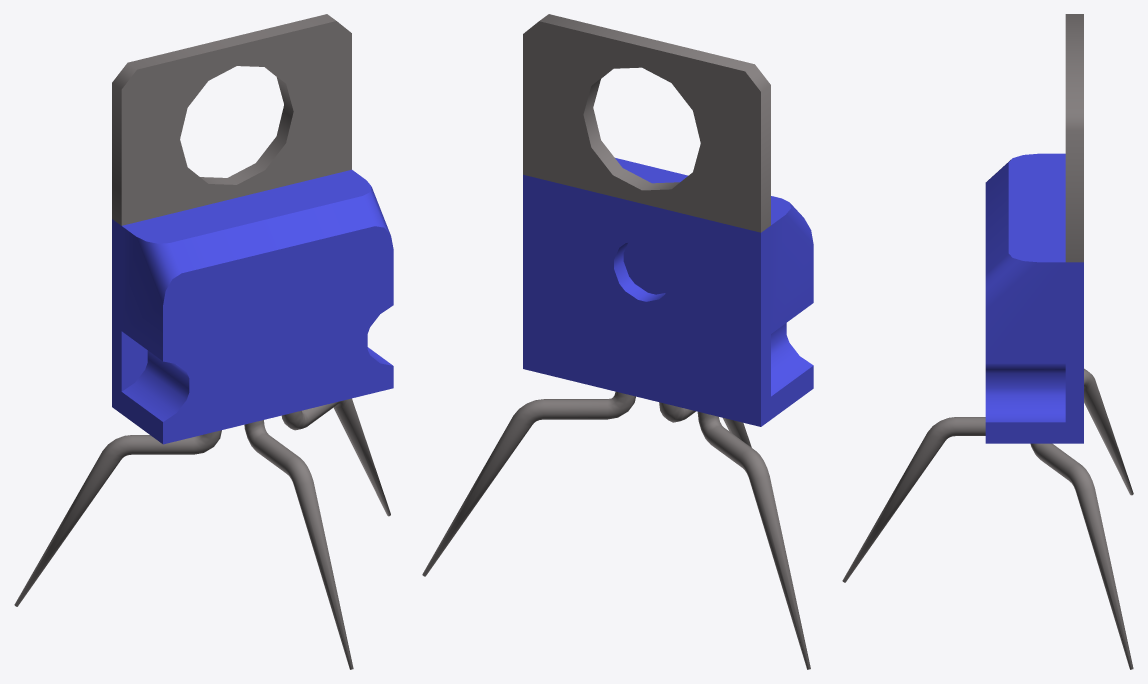
The model's file is transistor.fbx.
The picture shows the model from 3 angles, left to right: view 1: azimuth 30°, elevation 25°; view 2: azimuth 150°, elevation 25°; view 3: azimuth 270°, elevation 25°; orthographic projection. The views are drawn at different scales.
Parts seen in each view (by area): view 1: Cube, Cylinder.007, Cylinder.005, Cylinder.006; view 2: Cube, Cylinder.006, Cylinder.007, Cylinder.005; view 3: Cube, Cylinder.006, Cylinder.005, Cylinder.007.
Part boxes in pixels (x1=…): Cube: x1=112, y1=14, x2=393, y2=444; Cylinder.007: x1=14, y1=430, x2=221, y2=606; Cylinder.005: x1=244, y1=420, x2=353, y2=669; Cylinder.006: x1=281, y1=398, x2=390, y2=516; Cube: x1=523, y1=14, x2=813, y2=426; Cylinder.006: x1=422, y1=391, x2=635, y2=576; Cylinder.007: x1=697, y1=411, x2=810, y2=669; Cylinder.005: x1=659, y1=402, x2=751, y2=447; Cube: x1=985, y1=14, x2=1083, y2=443; Cylinder.006: x1=1030, y1=443, x2=1133, y2=669; Cylinder.005: x1=842, y1=417, x2=985, y2=582; Cylinder.007: x1=1084, y1=368, x2=1133, y2=495.
Size of the model in its own units: 455 by 625 by 316.
